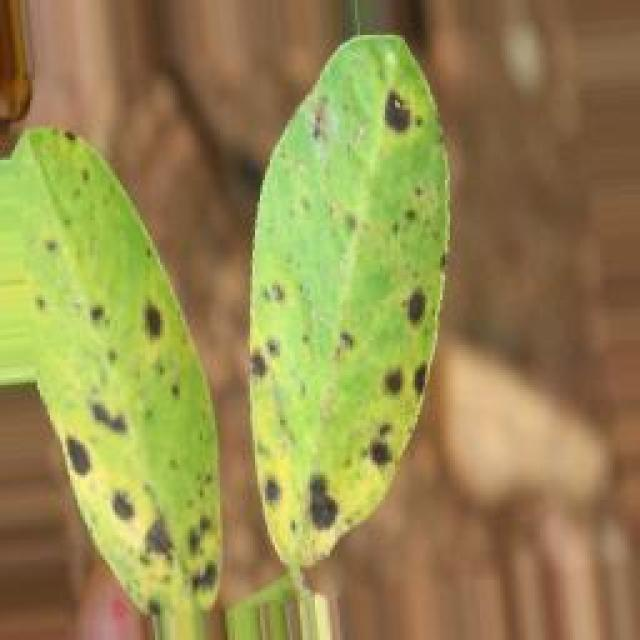Yellowish: (0, 13, 476, 593)
